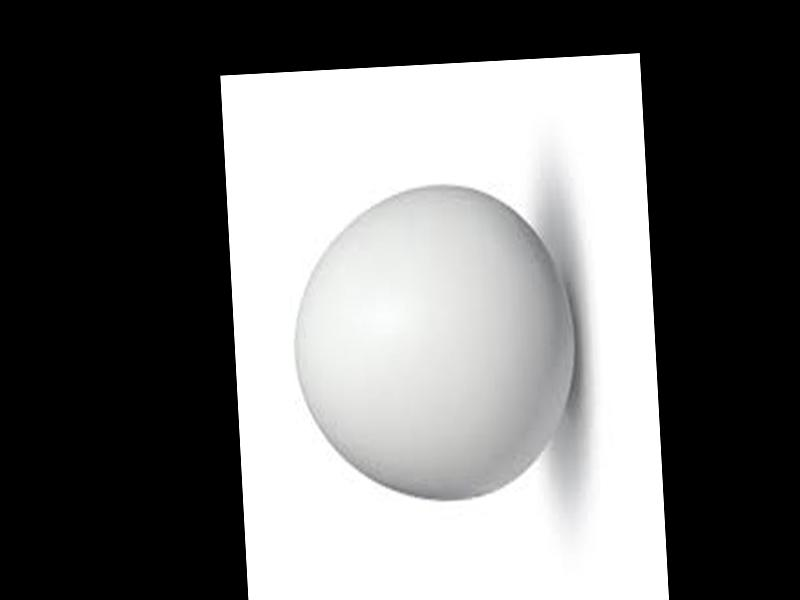Eggs: (284, 180, 581, 503)
